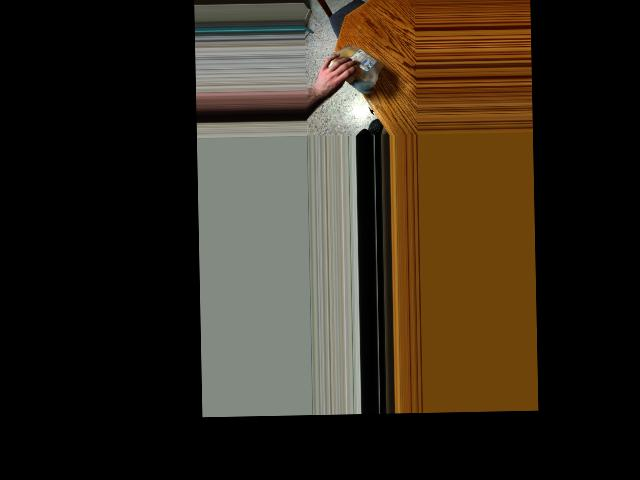cheese: (325, 41, 385, 88)
